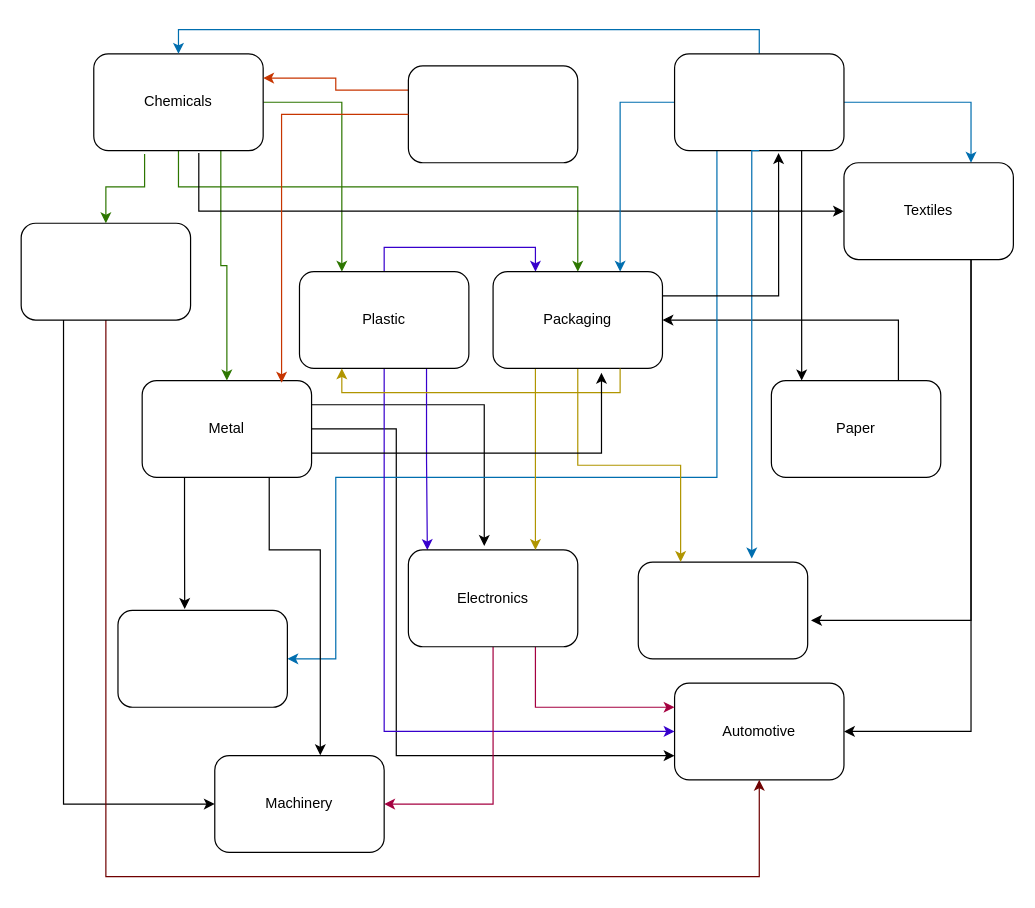
This 1035x908 diagram has some shape labels left out. Each missing label, with the centre of its shape:
"Agriculture (Lumber, Cotton)" goes at point 758,102.
"Construction" goes at point 202,658.
"Furniture" goes at point 722,610.
"Mining" goes at point 492,114.
"Rubber" goes at point 105,271.
